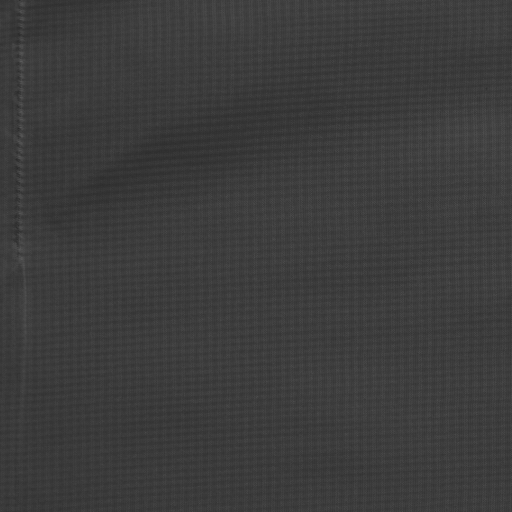defect: (12, 1, 28, 264)
